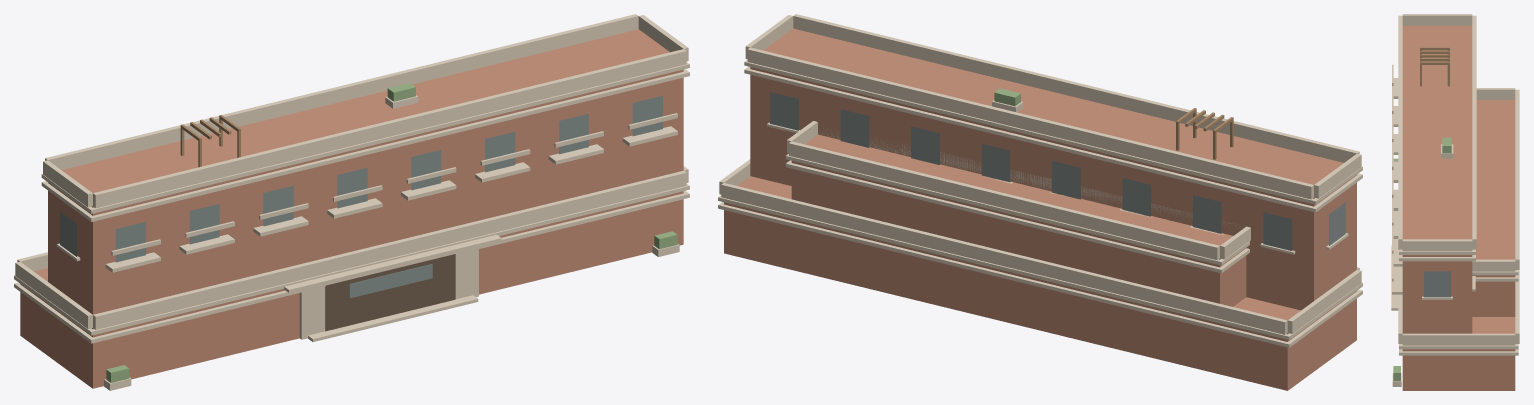
Rendered from residential_4x1_court.glb.
The picture shows the model from 3 angles, left to right: view 1: azimuth 30°, elevation 25°; view 2: azimuth 150°, elevation 25°; view 3: azimuth 270°, elevation 25°; orthographic projection. The views are drawn at different scales.
Visible parts, largest first — view 1: residential_4x1_court_0; view 2: residential_4x1_court_0; view 3: residential_4x1_court_0.
Part boxes in pixels (x1,y1,x2,y2): residential_4x1_court_0: (14,14,689,390); residential_4x1_court_0: (718,14,1362,390); residential_4x1_court_0: (1391,14,1519,390).
Size of the model in its own units: 31 by 10.5 by 7.4.
